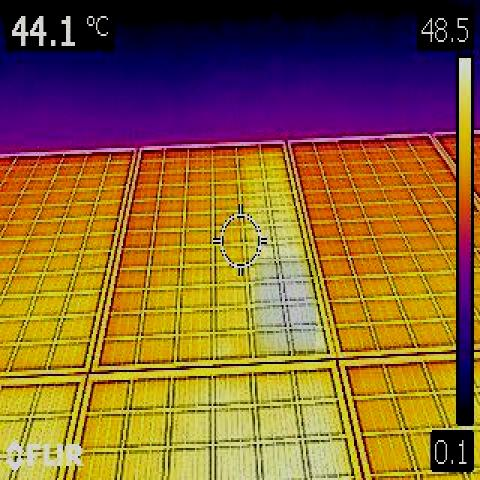fault: (255, 260, 316, 354)
